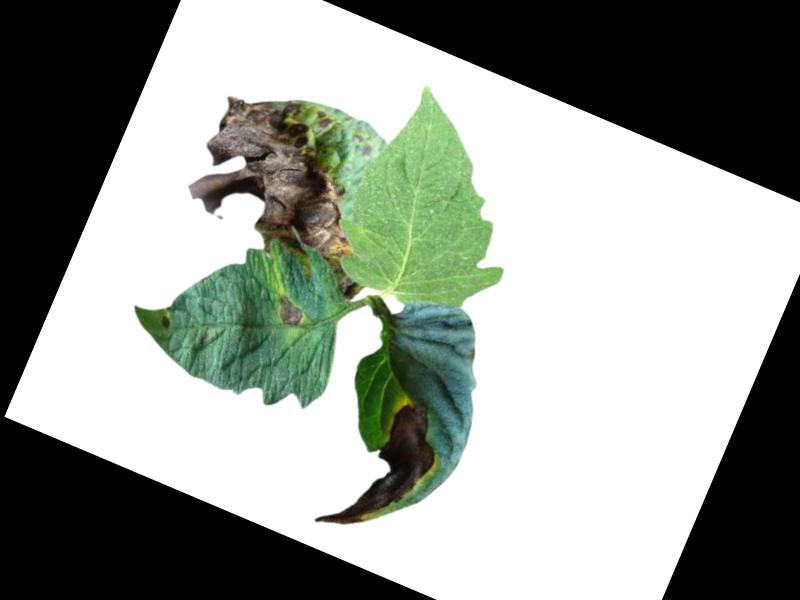Early_blight: (177, 75, 396, 279), (312, 381, 456, 558), (272, 292, 308, 331), (333, 268, 365, 302), (159, 313, 174, 330)
healthy: (323, 73, 562, 335)
